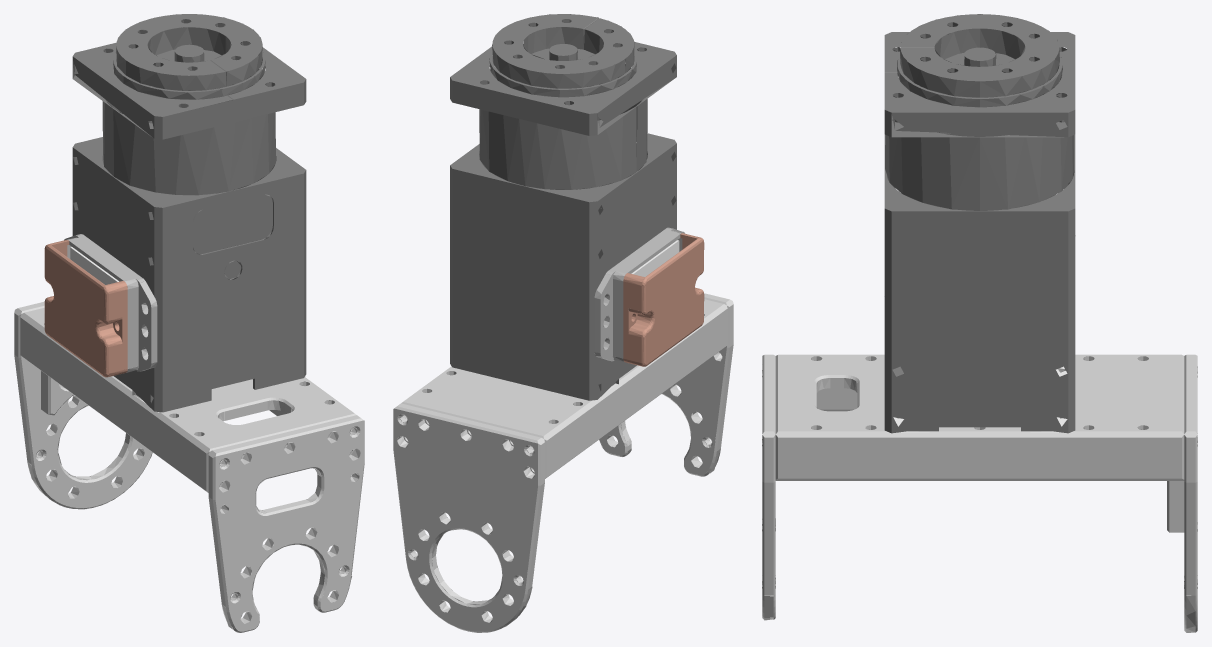
Rendered from robotis_arm_link5.dae.
The picture shows the model from 3 angles, left to right: view 1: azimuth 30°, elevation 25°; view 2: azimuth 150°, elevation 25°; view 3: azimuth 270°, elevation 25°; orthographic projection. The views are drawn at different scales.
Visible parts, largest first — view 1: Untitled_006, Untitled_003, Untitled_005, Untitled_004, Untitled, Untitled_009, Untitled_001, Untitled_012, Untitled_002; view 2: Untitled_006, Untitled_004, Untitled_005, Untitled, Untitled_009, Untitled_003, Untitled_001, Untitled_012, Untitled_002; view 3: Untitled_007, Untitled_005, Untitled_006, Untitled_004, Untitled_013, Untitled_003, Untitled_009.
Boxes of the visible parts, <box> form: Untitled_006: <box>72,14,306,412</box>; Untitled_003: <box>208,415,364,632</box>; Untitled_005: <box>20,308,356,492</box>; Untitled_004: <box>14,301,152,509</box>; Untitled: <box>44,240,127,377</box>; Untitled_009: <box>72,147,154,410</box>; Untitled_001: <box>64,234,157,372</box>; Untitled_012: <box>72,56,154,138</box>; Untitled_002: <box>70,247,118,284</box>; Untitled_006: <box>450,14,676,400</box>; Untitled_004: <box>393,403,544,632</box>; Untitled_005: <box>401,299,727,478</box>; Untitled: <box>623,233,704,366</box>; Untitled_009: <box>597,143,676,399</box>; Untitled_003: <box>599,293,733,476</box>; Untitled_001: <box>594,227,684,361</box>; Untitled_012: <box>597,55,676,127</box>; Untitled_002: <box>631,240,679,276</box>; Untitled_007: <box>891,211,1068,433</box>; Untitled_005: <box>775,354,1184,480</box>; Untitled_006: <box>884,14,1075,433</box>; Untitled_004: <box>1167,354,1197,632</box>; Untitled_013: <box>891,112,1068,137</box>; Untitled_003: <box>762,354,775,620</box>; Untitled_009: <box>892,133,1068,327</box>.
Size of the model in its own units: 0.0527 by 0.096 by 0.1405.
